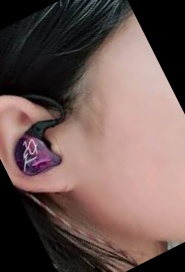earphone: (0, 77, 86, 212)
